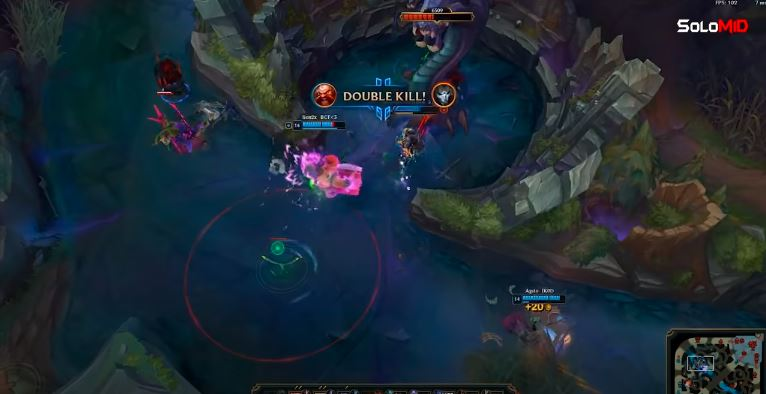bar: (383, 95, 451, 115), (510, 289, 568, 307), (291, 117, 350, 134)
